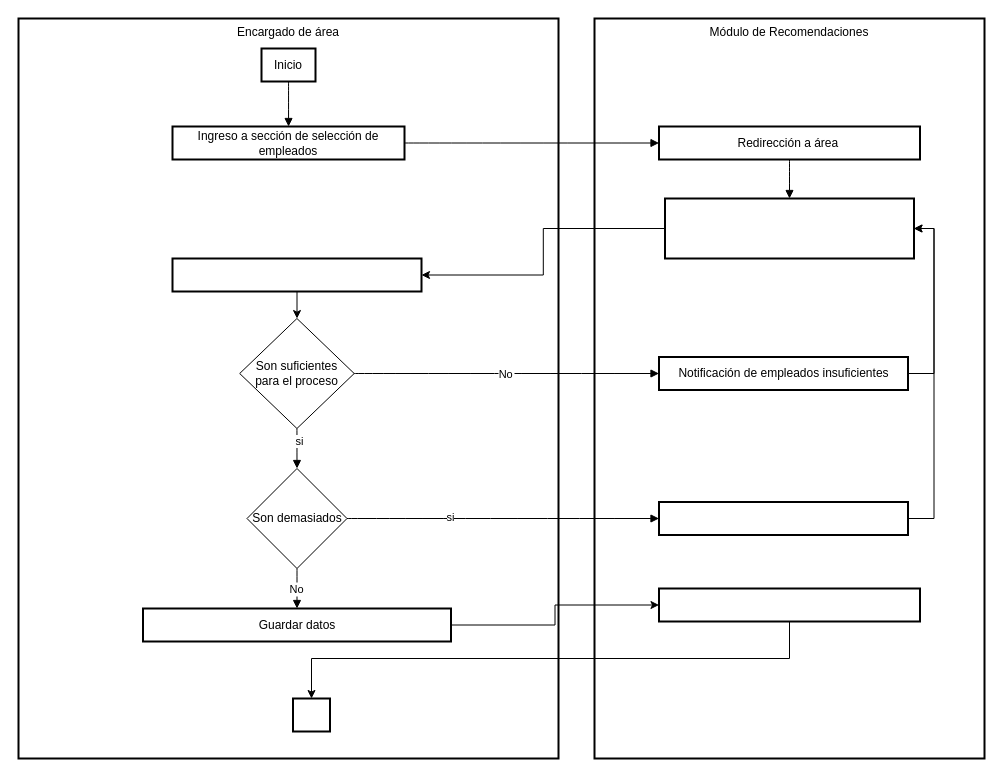
This 1002x776 diagram has some shape labels left out. Here are the shapes that lost their labels. From the top down, the box of each, then its label:
(664, 197, 914, 259): Ordenamiento de empleados disponibles según sus atributos de mayor a menos
(171, 257, 422, 292): Selección de empleados
(658, 500, 908, 536): Notificación de exceso de empleados
(658, 587, 920, 622): Emitir mensaje de confirmación de ingreso
(292, 697, 330, 732): Fin
